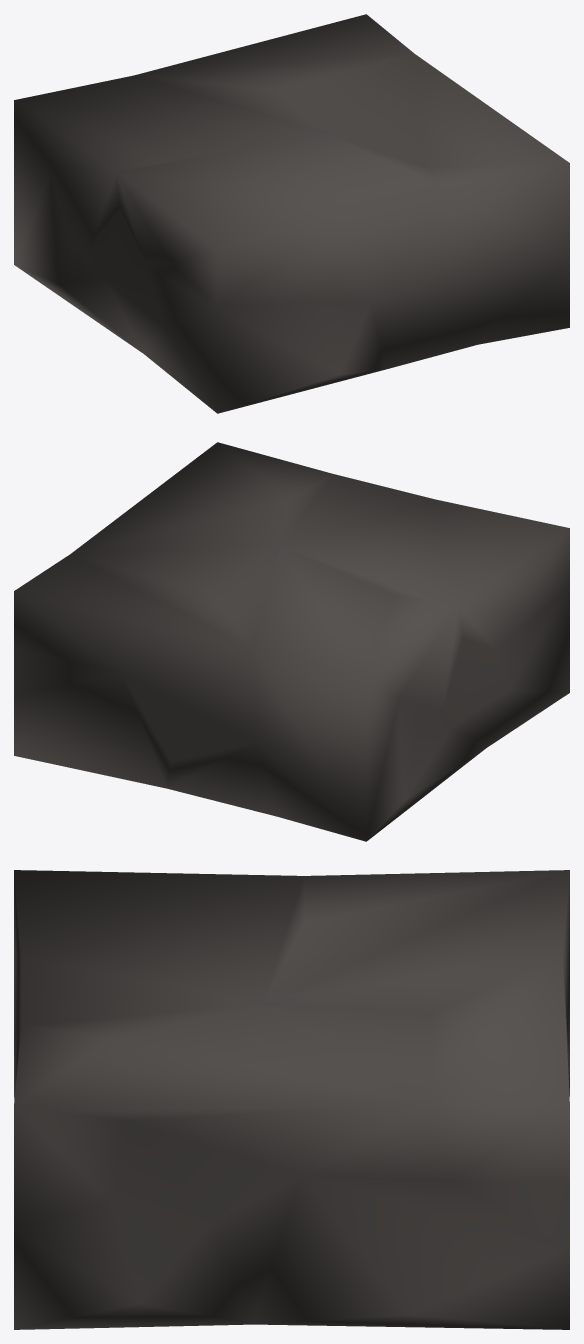
Rendered from underrock_2.glb.
The picture shows the model from 3 angles, top to bottom: view 1: azimuth 30°, elevation 25°; view 2: azimuth 150°, elevation 25°; view 3: azimuth 270°, elevation 25°; orthographic projection. The views are drawn at different scales.
Visible parts, largest first — view 1: underrock_2; view 2: underrock_2; view 3: underrock_2.
Boxes of the visible parts, x1,y1,x2,y2 form: underrock_2: [14, 14, 569, 413]; underrock_2: [14, 442, 569, 841]; underrock_2: [14, 870, 569, 1329].
Size of the model in its own units: 2.8 by 1.25 by 2.8.
Materials: 1 (1 with a texture image).
